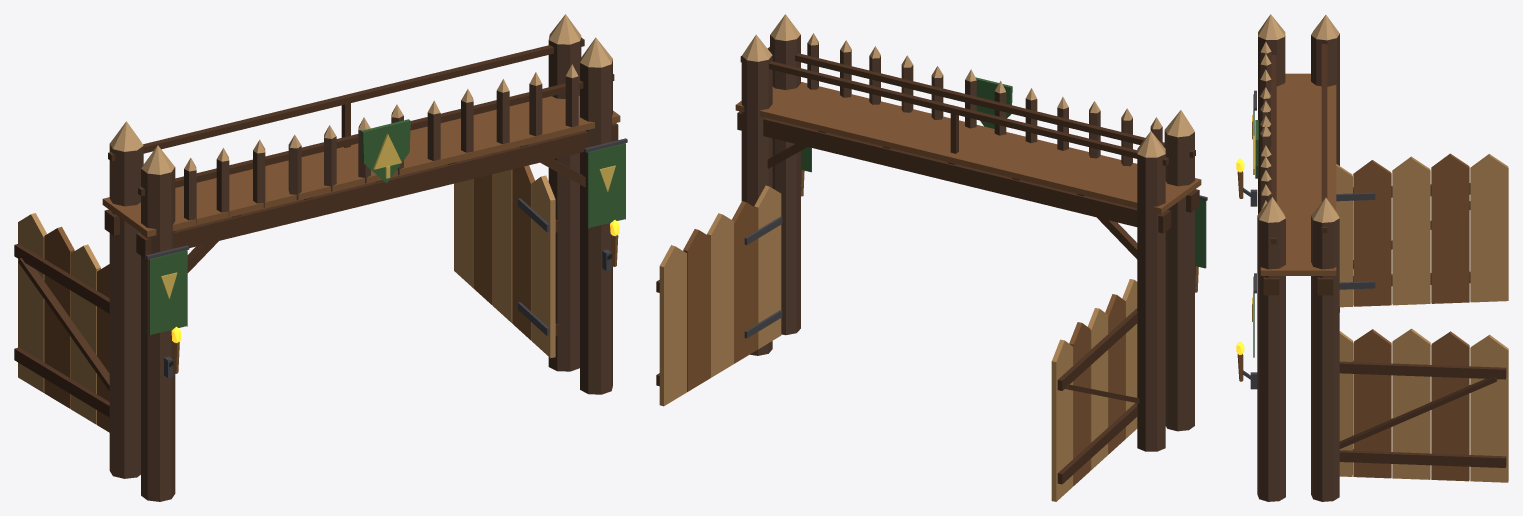
File: Palisade_Tor.fbx
3 renders of one model, left to right at view 1: azimuth 30°, elevation 25°; view 2: azimuth 150°, elevation 25°; view 3: azimuth 270°, elevation 25°, orthographic. The views are drawn at different scales.
Visible parts, largest first — view 1: Torhaus_Oben, Torhaus_Pfosten, Fluegel_L, Fluegel_R; view 2: Torhaus_Oben, Torhaus_Pfosten, Fluegel_R, Fluegel_L; view 3: Fluegel_R, Fluegel_L, Torhaus_Pfosten, Torhaus_Oben.
Part boxes in pixels (bbox=[...]): Torhaus_Oben: bbox=[102, 37, 625, 335]; Torhaus_Pfosten: bbox=[109, 14, 627, 501]; Fluegel_L: bbox=[14, 213, 109, 432]; Fluegel_R: bbox=[454, 165, 560, 358]; Torhaus_Oben: bbox=[735, 33, 1206, 268]; Torhaus_Pfosten: bbox=[741, 14, 1207, 451]; Fluegel_R: bbox=[656, 185, 782, 406]; Fluegel_L: bbox=[1051, 279, 1139, 501]; Fluegel_R: bbox=[1339, 328, 1508, 482]; Fluegel_L: bbox=[1336, 153, 1508, 307]; Torhaus_Pfosten: bbox=[1236, 14, 1339, 501]; Torhaus_Oben: bbox=[1252, 42, 1336, 357].
Bounding box in the file's own units: 9.68 × 6.75 × 5.57.
